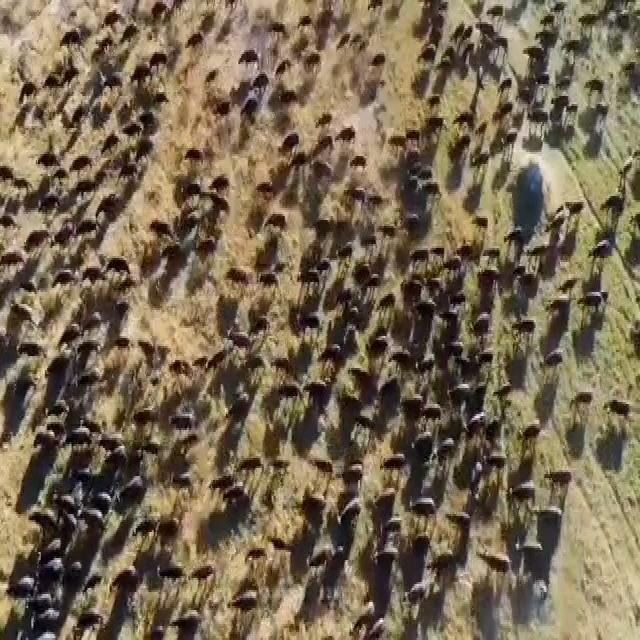Buffalo: (519, 88, 586, 160), (344, 594, 399, 640), (153, 592, 202, 640), (396, 335, 438, 384), (11, 323, 48, 372), (196, 96, 242, 134), (541, 498, 577, 546), (29, 413, 60, 468), (393, 192, 431, 236), (339, 133, 372, 182), (33, 590, 65, 640), (67, 419, 97, 472), (147, 557, 182, 599), (603, 399, 636, 441), (558, 263, 588, 309), (84, 248, 105, 312), (380, 470, 402, 530), (448, 13, 478, 57), (402, 286, 440, 319), (36, 529, 62, 577), (7, 294, 34, 340), (280, 120, 307, 166), (601, 190, 628, 236), (268, 528, 296, 572), (180, 134, 207, 178), (241, 42, 270, 82), (83, 339, 110, 381), (293, 283, 322, 322), (591, 225, 620, 263), (12, 82, 41, 120), (563, 384, 593, 420), (135, 50, 162, 90), (85, 494, 108, 540), (104, 149, 136, 182), (444, 248, 469, 290), (513, 469, 537, 512), (553, 464, 576, 508), (228, 249, 250, 295), (340, 390, 382, 414), (231, 573, 256, 613), (168, 408, 205, 434), (116, 477, 152, 503), (522, 310, 544, 352), (451, 386, 485, 413), (56, 313, 81, 348), (580, 287, 603, 325), (398, 396, 426, 427), (407, 567, 425, 614), (110, 576, 139, 605), (278, 380, 306, 410), (326, 328, 346, 370), (412, 497, 442, 525), (432, 553, 459, 584), (13, 577, 35, 615), (433, 430, 455, 468), (388, 128, 414, 160), (90, 88, 115, 121), (314, 162, 334, 202), (487, 545, 507, 584), (197, 556, 220, 589), (458, 504, 479, 540), (273, 443, 295, 475), (216, 474, 243, 500), (260, 266, 284, 295), (366, 43, 388, 74), (495, 116, 519, 144), (36, 199, 59, 228), (479, 263, 499, 294), (302, 550, 332, 570), (180, 168, 194, 210), (321, 123, 337, 159), (339, 299, 361, 325), (336, 505, 362, 527), (504, 206, 522, 237), (248, 312, 270, 337), (74, 168, 90, 202), (550, 205, 566, 239), (553, 352, 568, 388), (228, 396, 246, 425), (377, 542, 392, 576), (244, 439, 257, 478), (262, 215, 301, 228), (64, 279, 84, 304), (231, 324, 244, 362), (516, 430, 540, 450), (47, 351, 75, 368), (113, 248, 128, 279), (304, 48, 323, 72), (56, 27, 81, 44), (473, 313, 492, 335), (84, 368, 98, 393), (159, 238, 176, 258), (476, 150, 494, 168), (419, 46, 444, 58), (208, 186, 221, 208)
